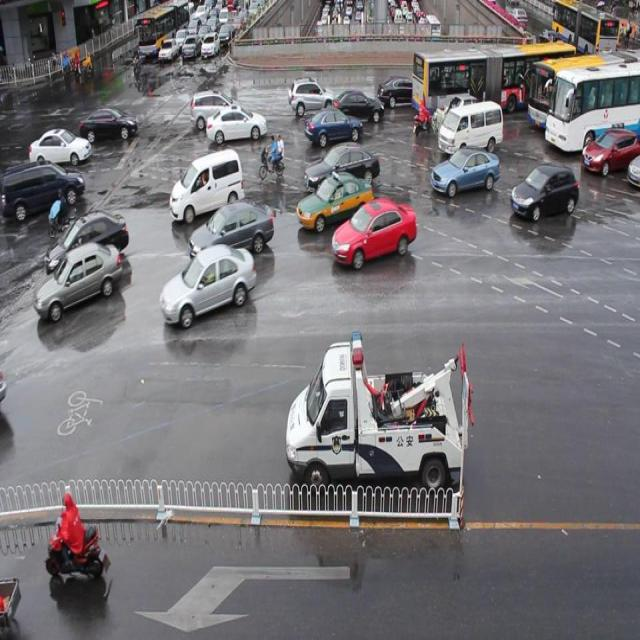bus: (285, 330, 473, 497)
car: (160, 248, 256, 327), (35, 245, 122, 319), (332, 196, 415, 270), (171, 152, 244, 226), (46, 212, 129, 276), (188, 205, 272, 263), (1, 163, 86, 220), (295, 171, 373, 230), (510, 162, 578, 218), (304, 143, 380, 189), (431, 147, 498, 196), (580, 130, 640, 176), (207, 105, 267, 143), (30, 129, 90, 166), (190, 91, 244, 132), (306, 107, 362, 145), (80, 108, 138, 143), (332, 87, 383, 124), (289, 78, 336, 115), (435, 95, 480, 133), (376, 77, 428, 106)
truck: (437, 102, 502, 154)
van: (412, 42, 574, 111), (544, 64, 640, 153), (529, 54, 640, 126)
